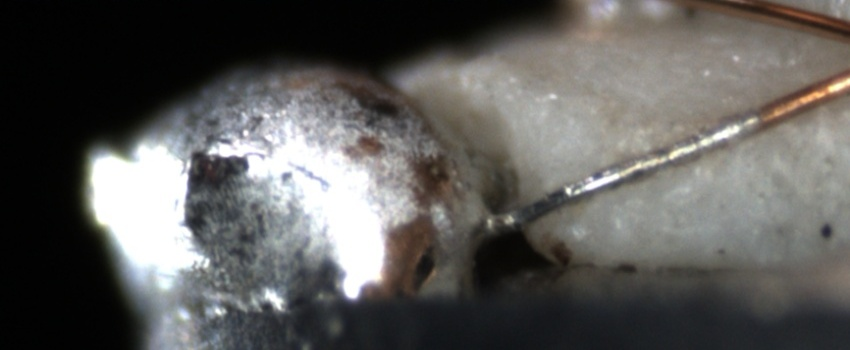DL: (629, 111, 850, 144)
TS: (503, 112, 762, 227)
